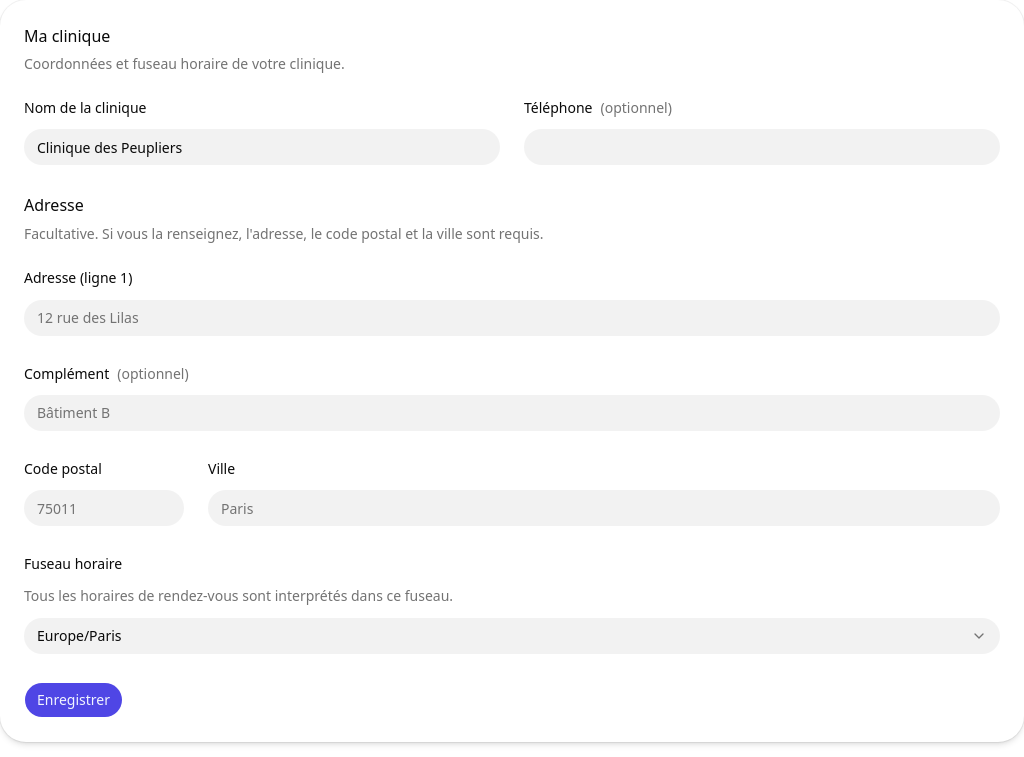
Test: ClinicForm — enregistrement › annonce une panne réseau sans jargon
This screenshot has width=1024, height=757.
Step 1. Click the button "Enregistrer" → (74, 700), box [24,682,123,718]
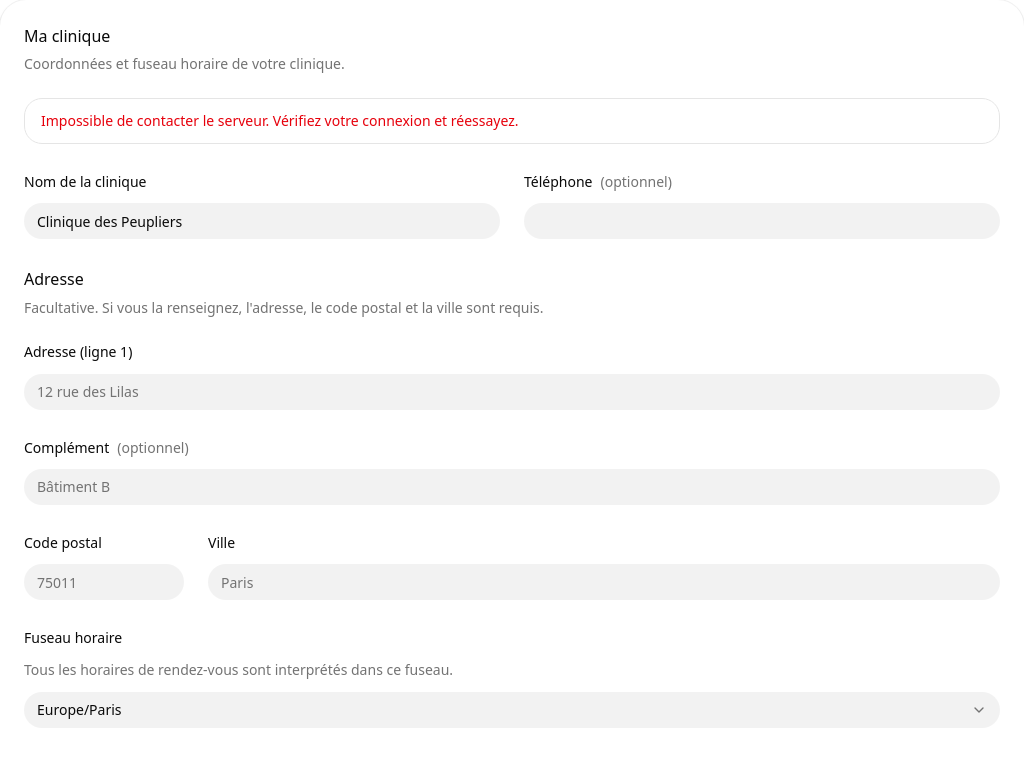
Now the text "Impossible de contacter le serveur" is shown, box [41,111,519,130]
